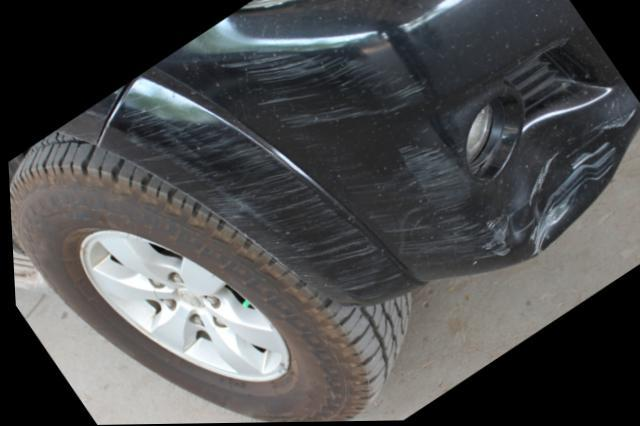dent: (507, 120, 619, 248)
rub: (106, 41, 518, 307)
